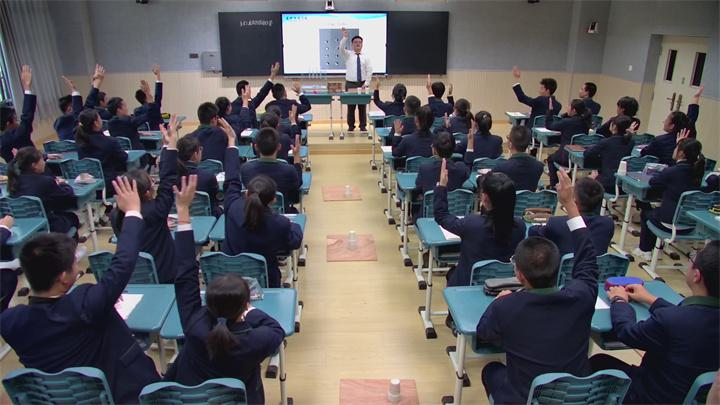hands-up: (1, 168, 146, 360), (480, 164, 598, 362), (175, 175, 282, 355), (217, 114, 292, 242), (436, 158, 520, 240), (158, 117, 208, 192), (1, 66, 38, 155), (221, 60, 282, 111), (654, 128, 699, 193), (58, 60, 106, 110), (511, 64, 558, 110), (549, 95, 599, 138), (425, 77, 468, 125), (668, 82, 706, 132), (133, 64, 164, 124), (597, 119, 641, 159), (366, 73, 402, 116)
listen: (603, 243, 715, 369)
